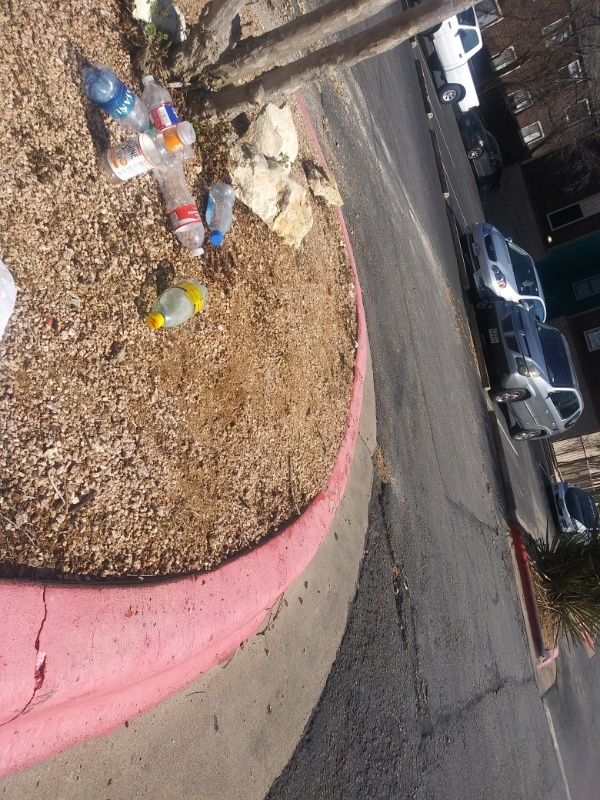bottle: (97, 116, 201, 182), (135, 69, 200, 167), (77, 63, 162, 135), (153, 161, 209, 262), (141, 276, 215, 332), (204, 173, 243, 250)
